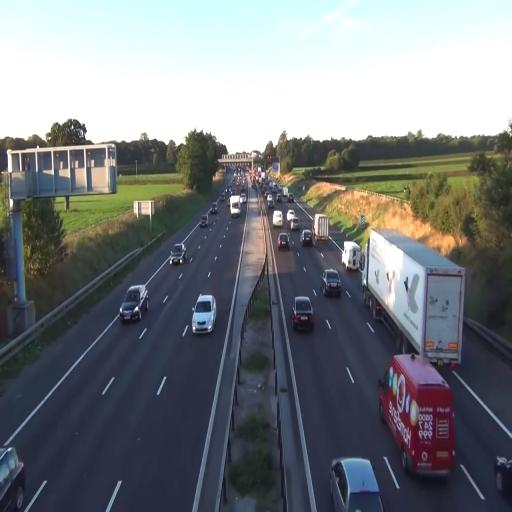vehicle: (361, 228, 466, 370), (362, 228, 466, 370), (377, 351, 456, 480), (378, 351, 456, 480), (330, 456, 385, 512), (0, 443, 27, 511), (119, 284, 149, 323), (192, 294, 217, 334), (291, 295, 314, 333), (321, 268, 342, 298), (342, 240, 361, 272), (169, 242, 185, 266), (230, 194, 244, 216), (301, 228, 314, 246), (278, 232, 290, 250)
